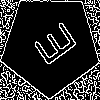E: (25, 20, 79, 73)
